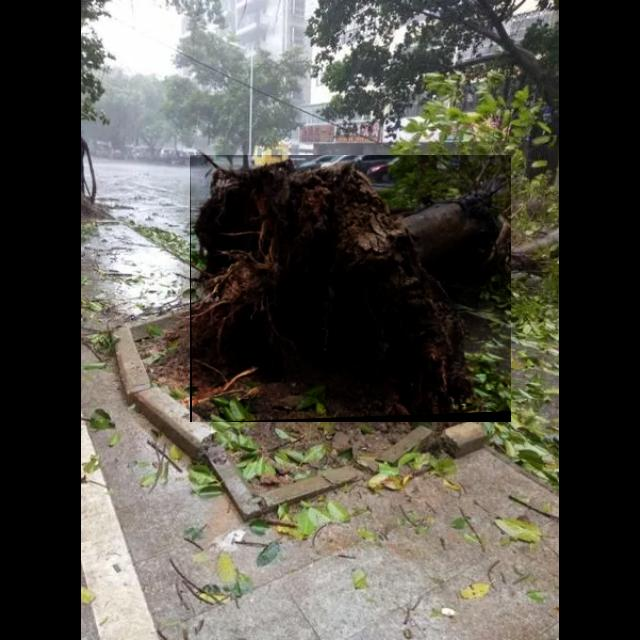Fallen Tree: (190, 155, 512, 423)
